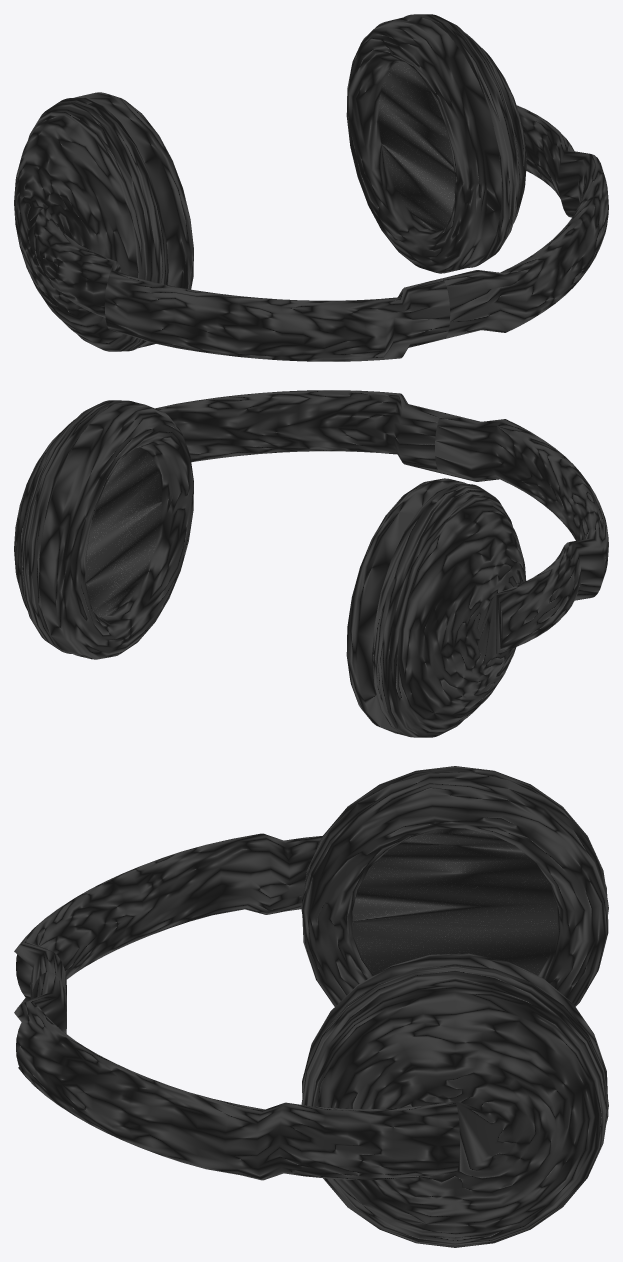
The model's file is model_align.obj.
3 views of the same model, one above another, from view 1: azimuth 30°, elevation 25°; view 2: azimuth 150°, elevation 25°; view 3: azimuth 270°, elevation 25° (orthographic). The views are drawn at different scales.
Size of the model in its own units: 0.1623 by 0.0734 by 0.1419.
Materials: 4 (4 with a texture image).
